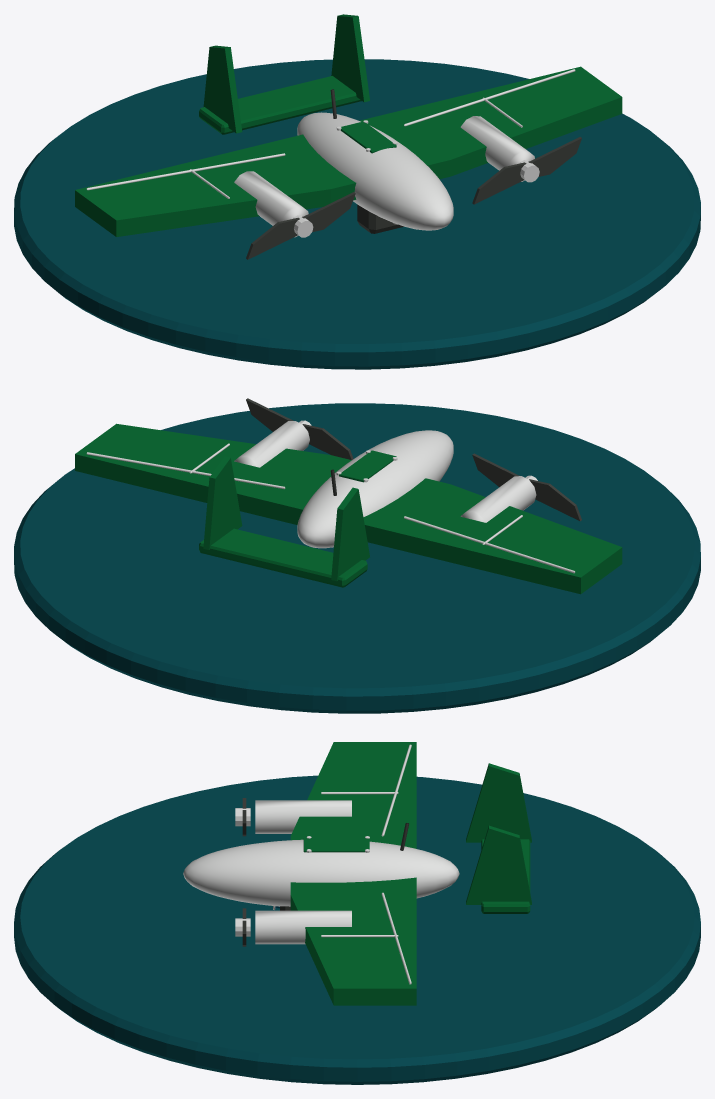
Rendered from wingtraone-gen-ii.glb.
3 renders of one model, top to bottom at view 1: azimuth 30°, elevation 25°; view 2: azimuth 150°, elevation 25°; view 3: azimuth 270°, elevation 25°, orthographic.
Parts seen in each view (by area): view 1: pedestal, body; view 2: pedestal, body; view 3: pedestal, body.
Boxes of the visible parts, x1,y1,x2,y2 form: pedestal: (14,59,700,369); body: (75,14,622,259); pedestal: (14,403,700,713); body: (75,398,622,594); pedestal: (14,775,700,1084); body: (183,742,531,1005).
Size of the model in its own units: 4.4 by 1.04 by 4.4.
